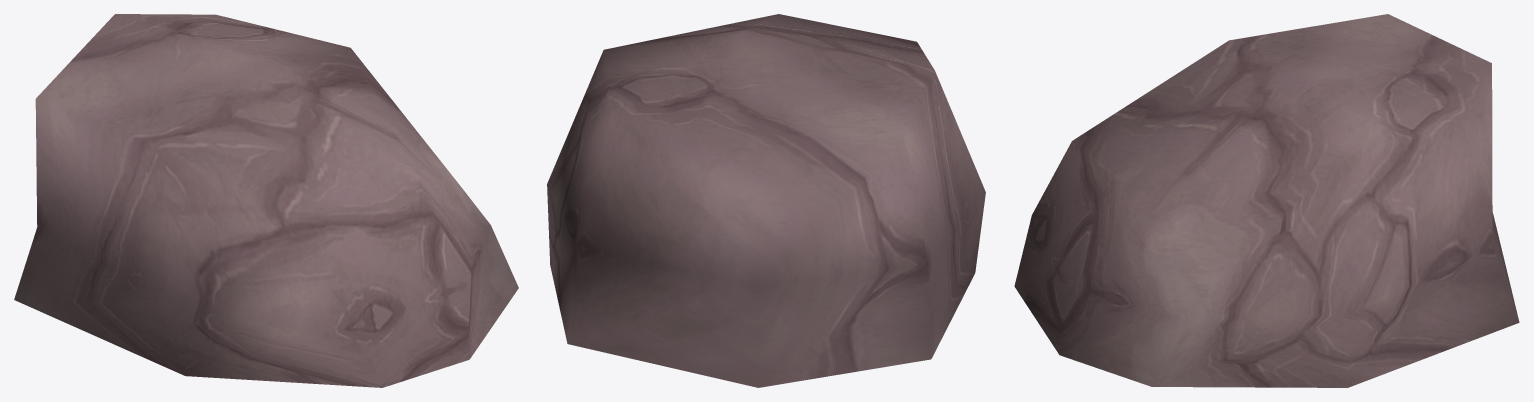
The model's file is rock_01.fbx.
The picture shows the model from 3 angles, left to right: view 1: azimuth 30°, elevation 25°; view 2: azimuth 150°, elevation 25°; view 3: azimuth 270°, elevation 25°; orthographic projection. The views are drawn at different scales.
Parts seen in each view (by area): view 1: rock_01; view 2: rock_01; view 3: rock_01.
Part boxes in pixels (x1,y1,x2,y2): rock_01: (14,14,518,387); rock_01: (547,14,985,387); rock_01: (1014,14,1519,387).
Bounding box in the file's own units: 2.73 × 1.6 × 3.04.
